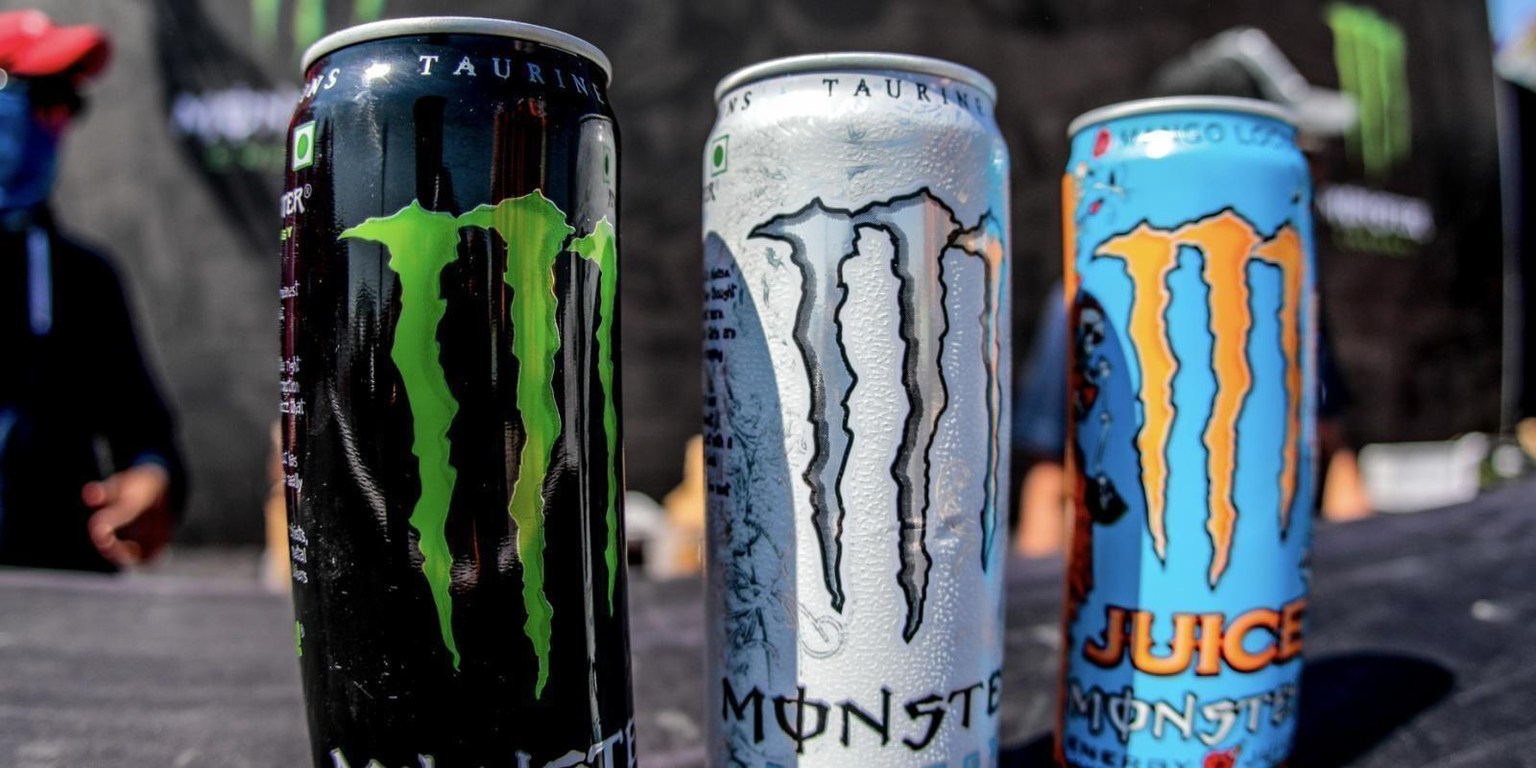tin can: (272, 12, 636, 767), (698, 47, 1020, 767), (1047, 91, 1332, 767)
